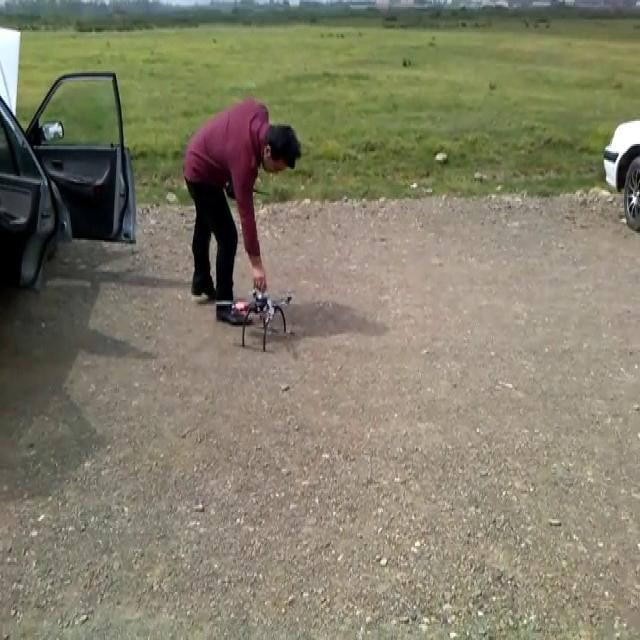drone: (227, 282, 292, 348)
